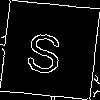S: (24, 24, 65, 74)
